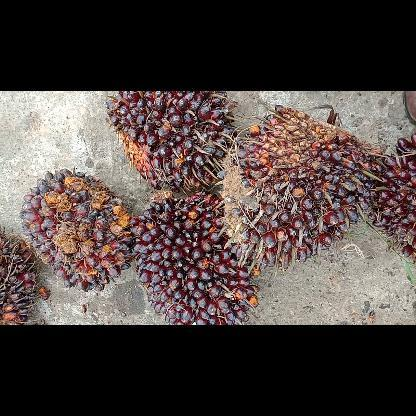Kurang masak: (212, 101, 386, 272), (126, 188, 266, 324), (16, 162, 136, 294), (106, 91, 236, 195)
